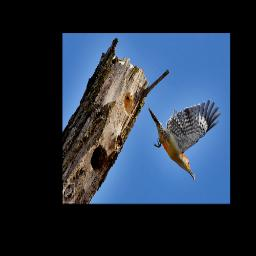Woodpecker: (148, 98, 221, 182)
